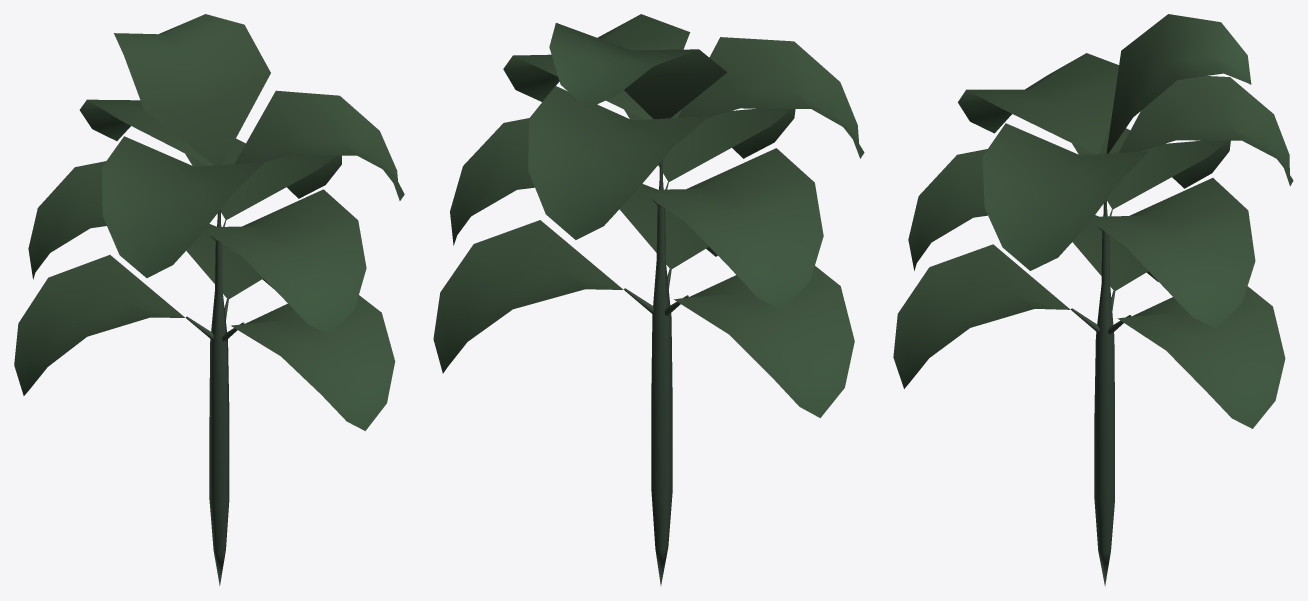
File: plants-leafy-plants-drooping-leaf-plant_v4.glb
3 views of the same model, side by side, from view 1: azimuth 30°, elevation 25°; view 2: azimuth 150°, elevation 25°; view 3: azimuth 270°, elevation 25° (orthographic). The views are drawn at different scales.
Visible parts, largest first — view 1: Drooping Leaf Plant_v4; view 2: Drooping Leaf Plant_v4; view 3: Drooping Leaf Plant_v4.
Part boxes in pixels (x1,y1,x2,y2): Drooping Leaf Plant_v4: (14,14,404,586); Drooping Leaf Plant_v4: (433,14,864,585); Drooping Leaf Plant_v4: (893,14,1293,586).
Size of the model in its own units: 0.3316 by 0.5 by 0.3357.
